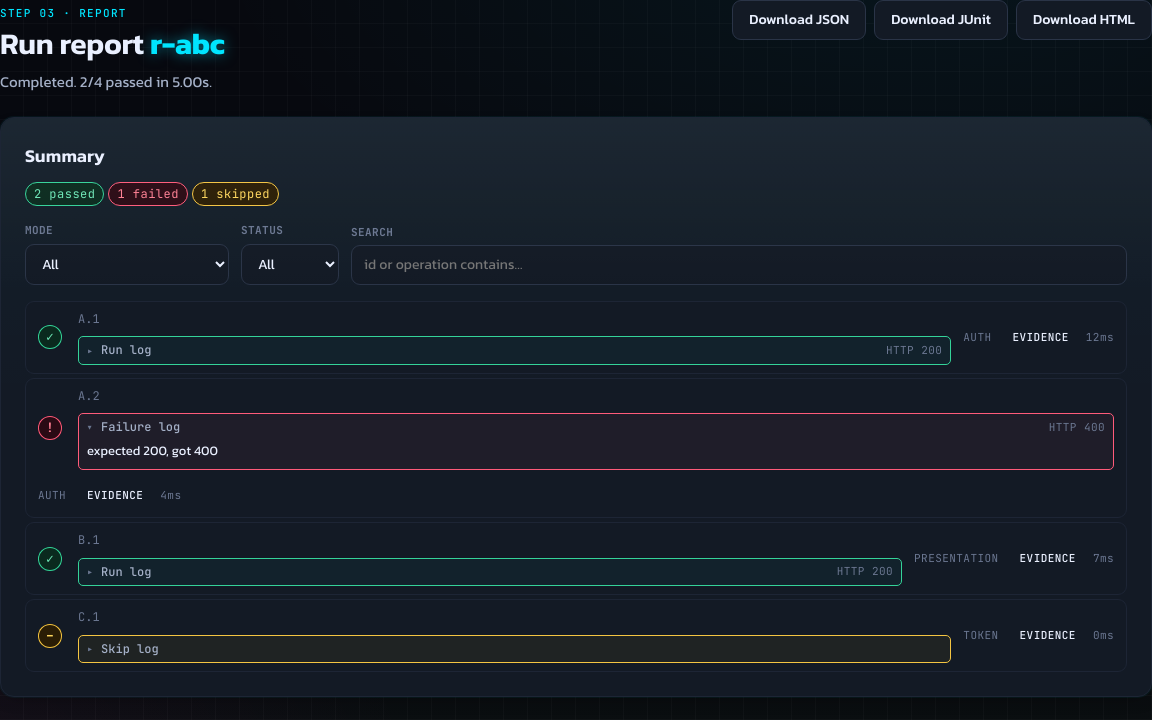
Test: ReportRoute › shows an empty state when no cases match
Check: the list with test id "case-list" is shown, box [25, 300, 1127, 672]
Type "nonexistent" into the search field with test id "filter-q" at (739, 265), box [351, 245, 1127, 284]
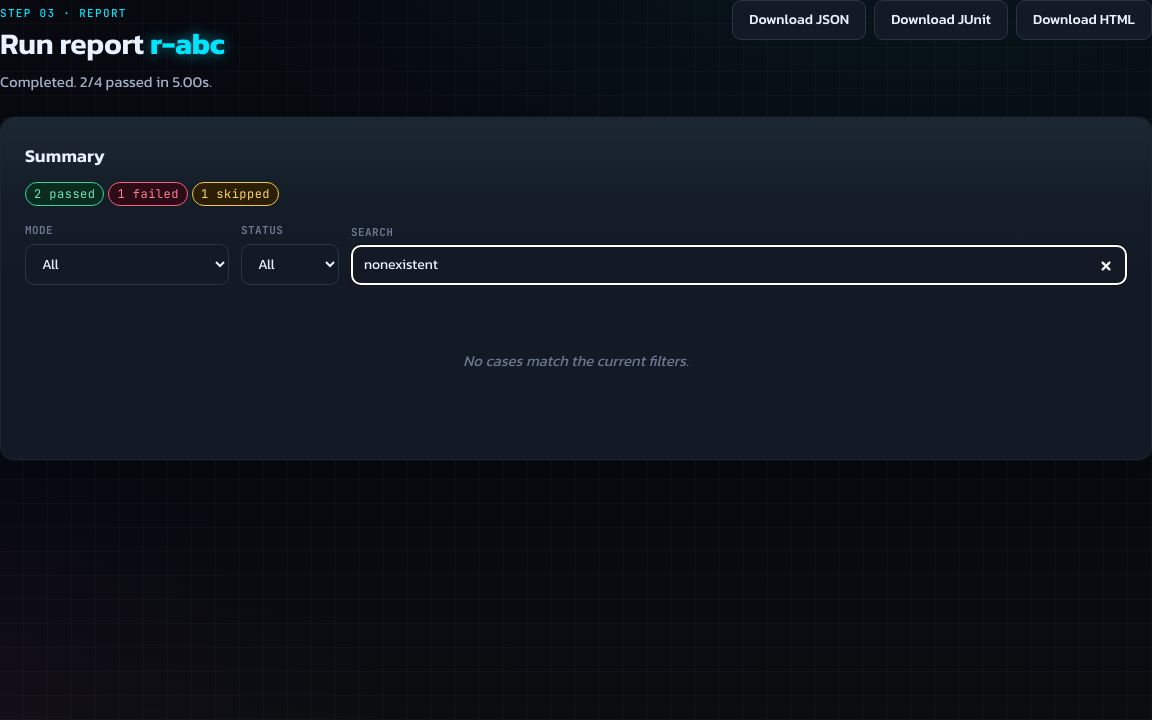
Check: the text "No cases match the current filters." is shown, box [463, 348, 689, 372]
